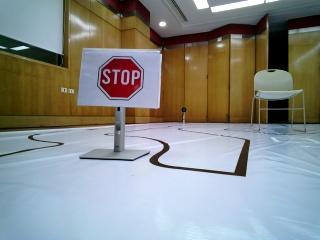stop: (85, 50, 156, 105)
